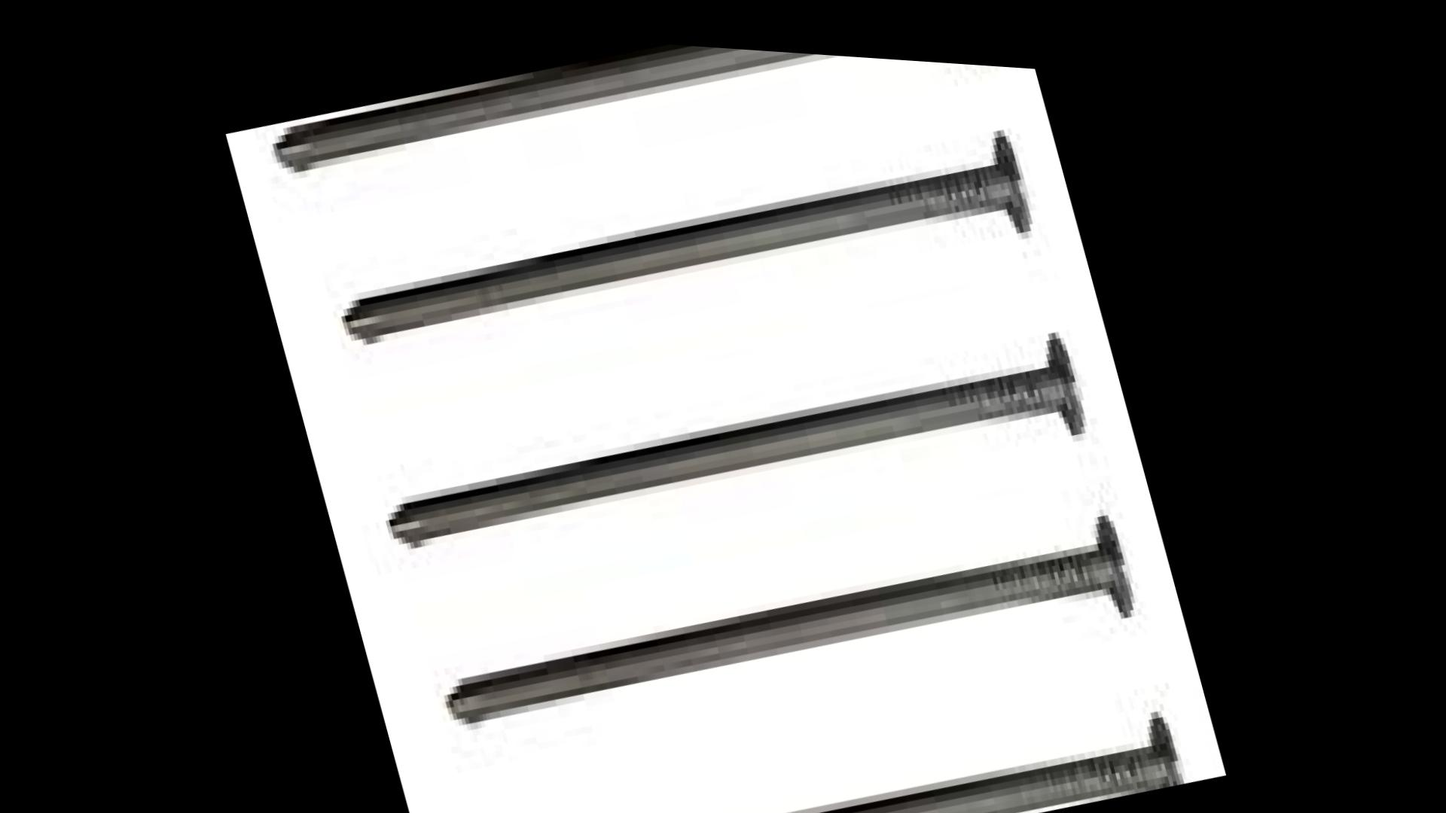nail: (284, 46, 1068, 448), (339, 242, 1115, 636), (394, 434, 1172, 813), (251, 13, 1019, 265), (450, 635, 1201, 813)
